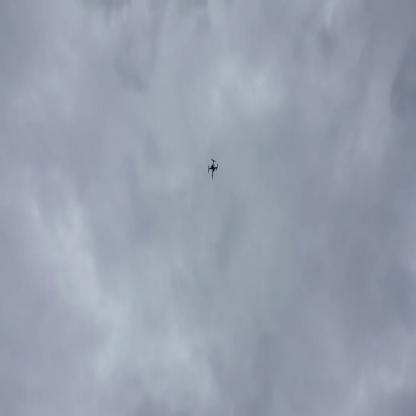drone: (206, 151, 221, 184)
